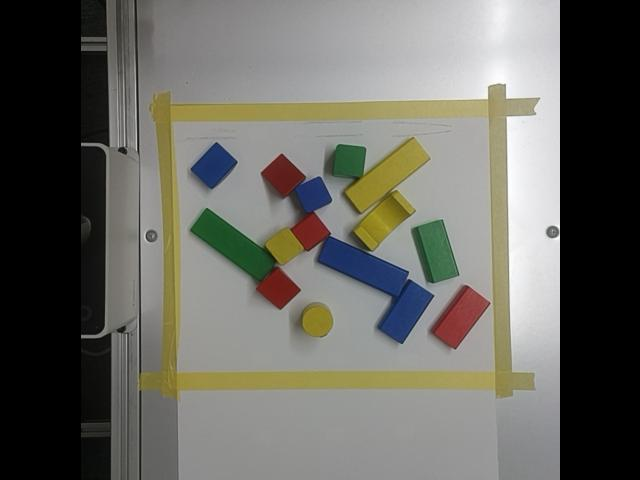blue_cube: (294, 176, 330, 212)
blue_longrect: (317, 237, 407, 297)
blue_rect: (378, 280, 432, 344)
cylinder: (302, 308, 332, 336)
green_cube: (333, 145, 364, 177)
green_longrect: (189, 208, 275, 281)
green_rect: (413, 220, 459, 284)
half_cylinder: (189, 142, 236, 189)
red_cube: (291, 213, 329, 250)
red_rect: (430, 285, 488, 349)
triangle: (260, 154, 305, 197), (257, 268, 299, 309)
yellow_archrect: (351, 190, 414, 251)
yellow_cube: (265, 228, 302, 265)
yellow_longrect: (343, 137, 430, 214)
